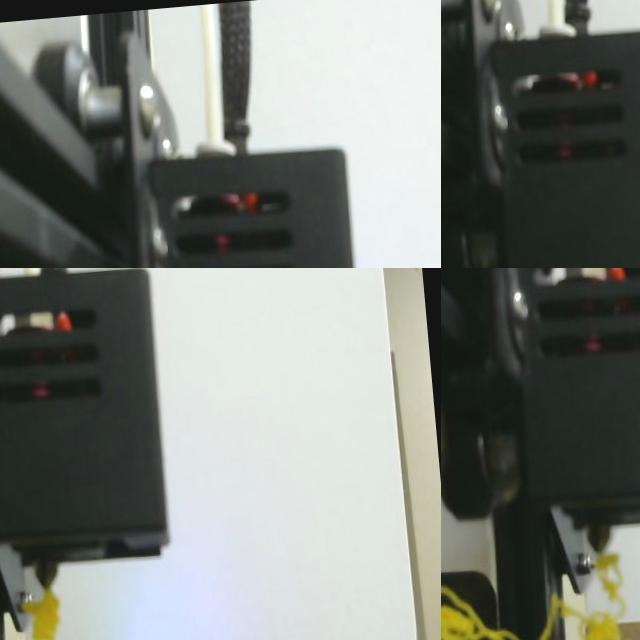spaghetti: (599, 555, 620, 603), (584, 616, 622, 640)
